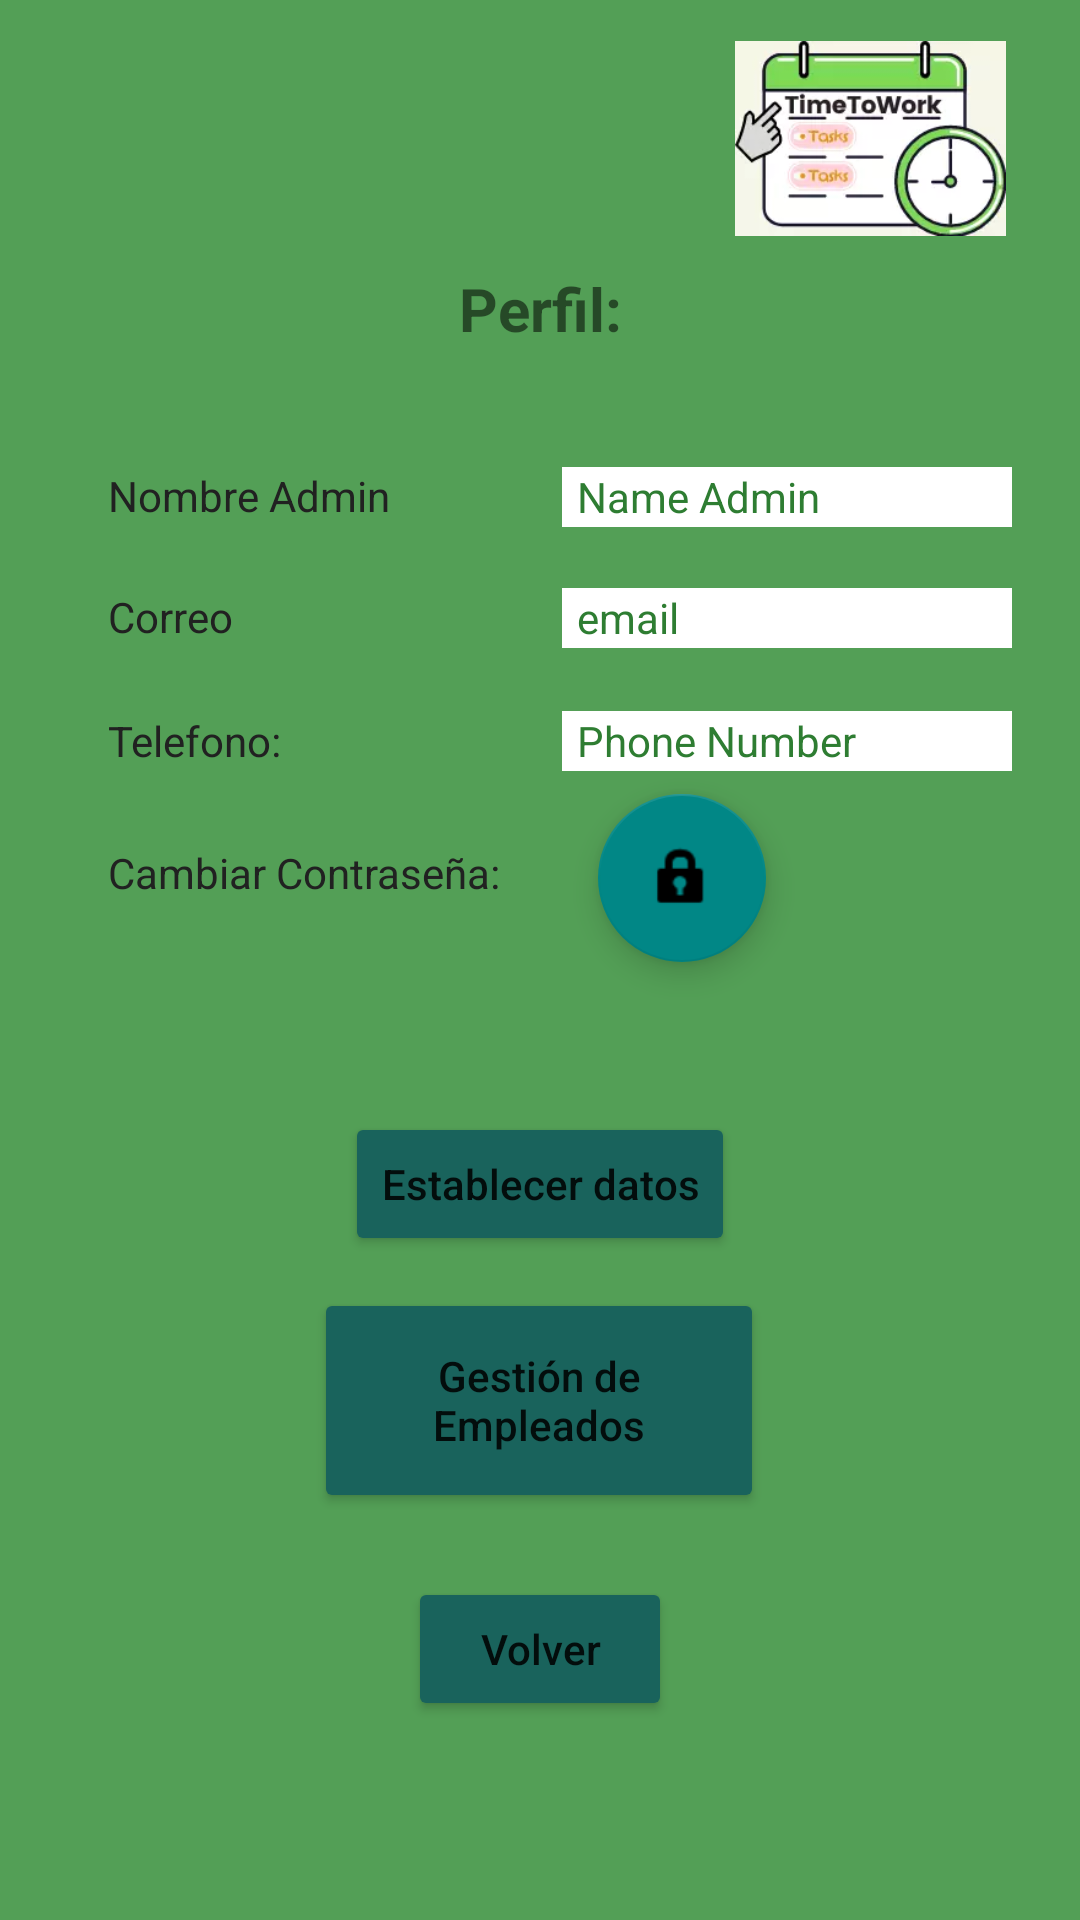

Named icons in this screenshot (1080 × 1920) and their centers, [x,y]:
lock idle: [682,878]
